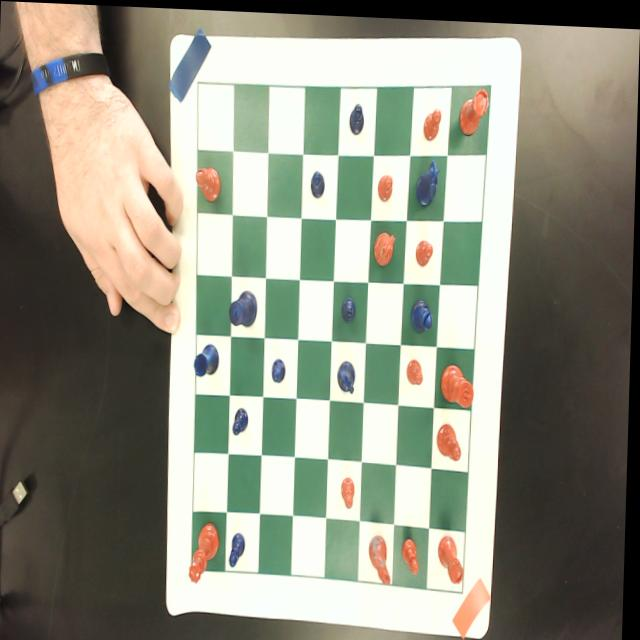B: (410, 294, 435, 329)
K: (230, 285, 259, 324)
N: (416, 155, 441, 206), (337, 356, 358, 392)
P: (231, 530, 248, 567), (348, 97, 364, 132), (234, 404, 250, 435), (341, 293, 358, 321), (272, 354, 287, 381), (311, 167, 325, 195)
R: (195, 340, 221, 375)
b: (196, 161, 221, 200), (438, 418, 463, 456)
cb: (194, 80, 491, 588)
k: (442, 358, 476, 403)
n: (370, 529, 394, 580), (374, 224, 397, 263)
p: (403, 533, 423, 571), (422, 102, 442, 138), (406, 354, 425, 383), (342, 473, 358, 505), (416, 236, 434, 264), (378, 170, 394, 198)
q: (191, 518, 223, 581)
r: (439, 528, 468, 579), (459, 83, 489, 132)
